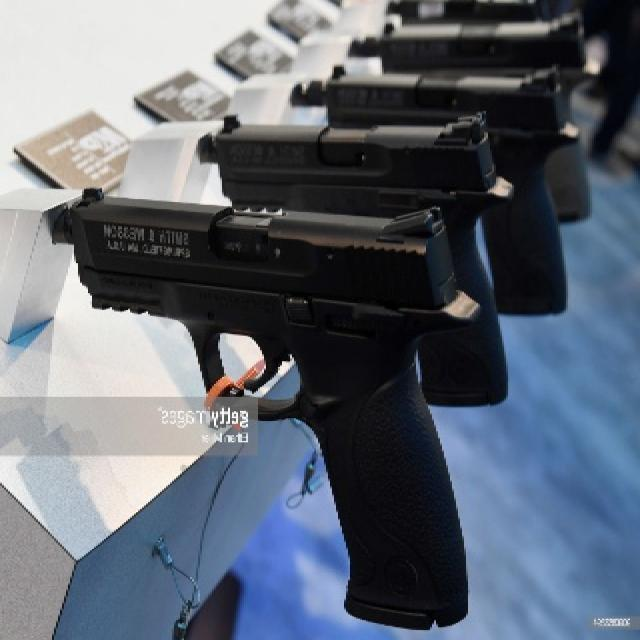handgun: (97, 189, 471, 629), (201, 105, 503, 205), (305, 58, 581, 134)
